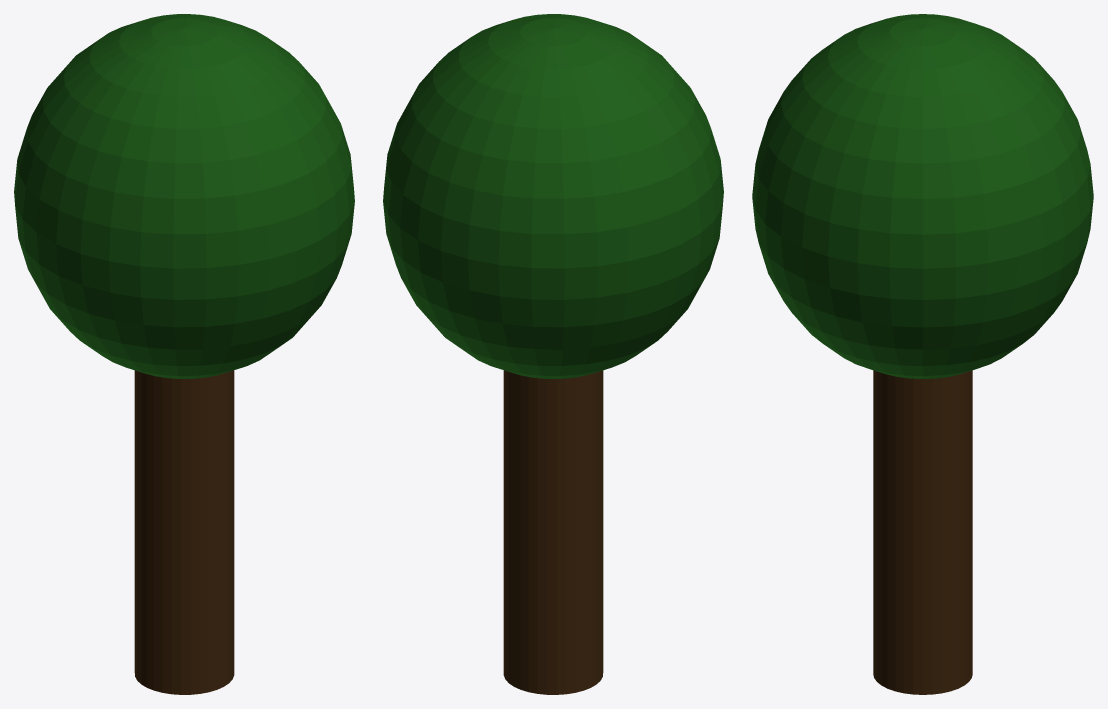
The model's file is tree_figure.glb.
3 renders of one model, left to right at view 1: azimuth 30°, elevation 25°; view 2: azimuth 150°, elevation 25°; view 3: azimuth 270°, elevation 25°, orthographic.
Visible parts, largest first — view 1: Kugel; view 2: Kugel; view 3: Kugel.
Boxes of the visible parts, box(x1,y1,x2,y2) form: Kugel: box(14, 14, 354, 694); Kugel: box(383, 14, 723, 694); Kugel: box(752, 14, 1093, 694).
Size of the model in its own units: 2.4 by 5 by 2.4.
